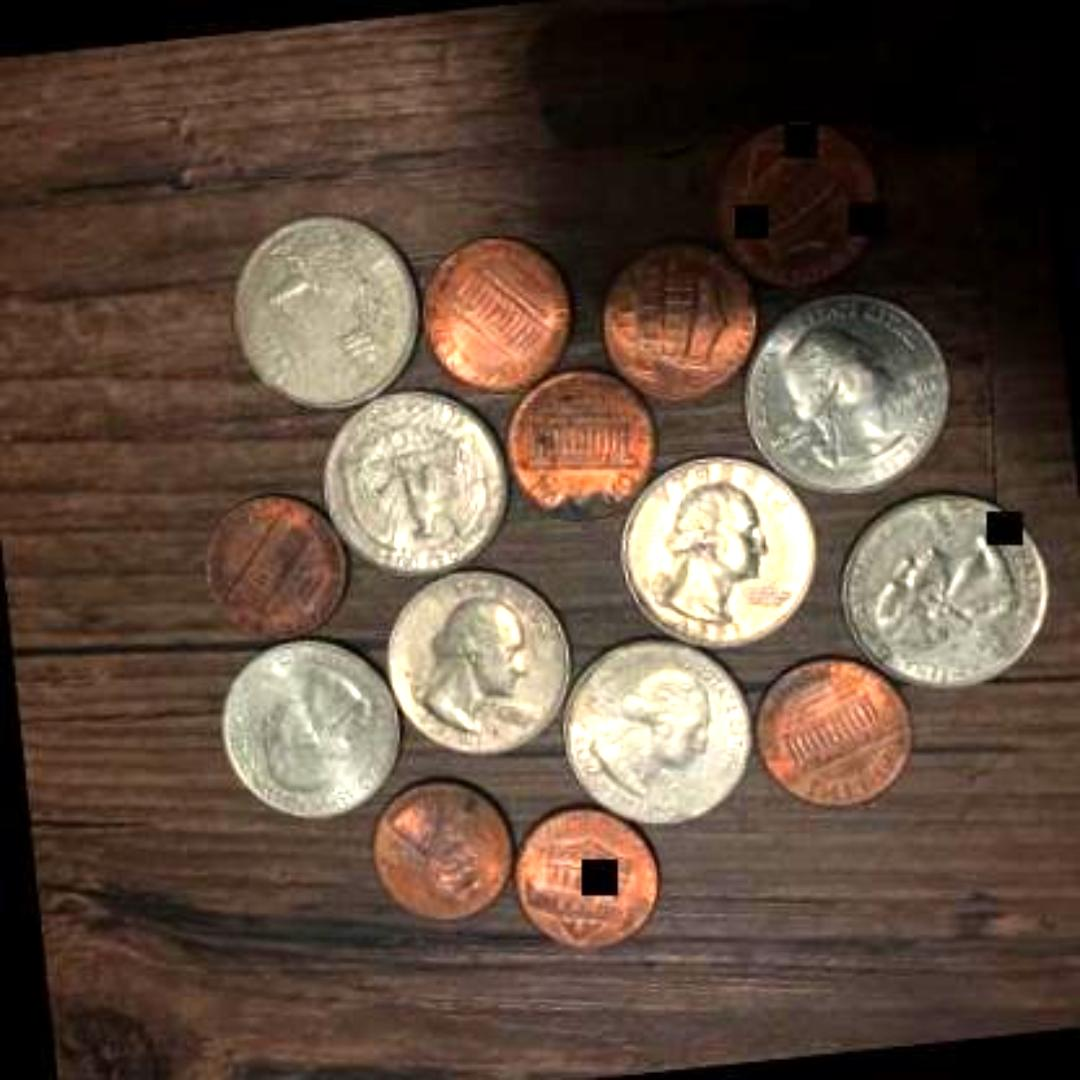Penny: (692, 107, 884, 291), (575, 234, 777, 408), (742, 642, 928, 814), (410, 225, 576, 401), (490, 360, 660, 530), (364, 762, 524, 938), (503, 791, 663, 957), (195, 484, 353, 647)
Quarter: (722, 282, 958, 504), (823, 477, 1059, 697), (610, 448, 830, 656), (216, 201, 426, 416), (550, 626, 766, 834), (309, 375, 521, 585), (375, 558, 585, 764), (208, 624, 402, 830)
